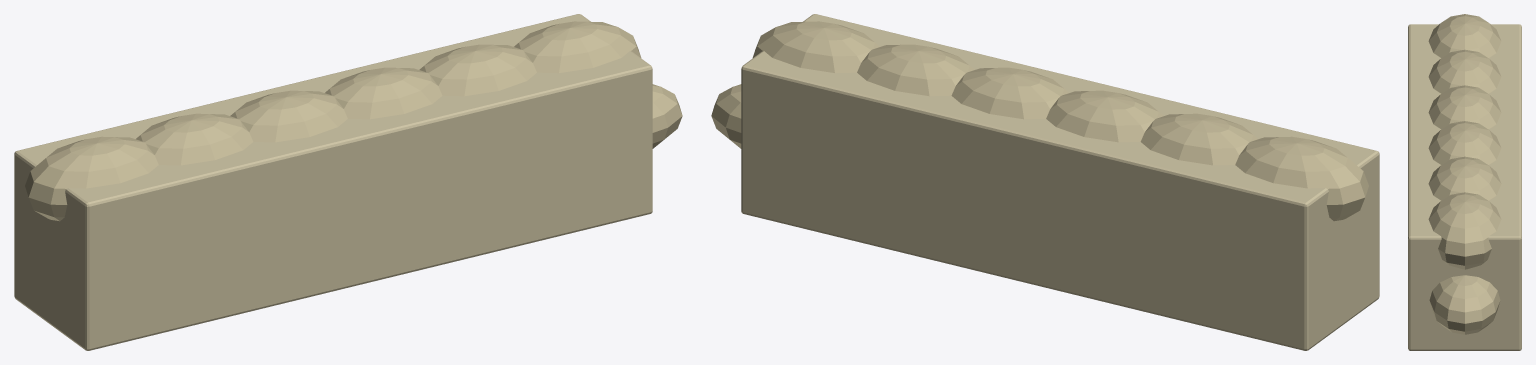
File: sandbag-wall.glb
3 renders of one model, left to right at view 1: azimuth 30°, elevation 25°; view 2: azimuth 150°, elevation 25°; view 3: azimuth 270°, elevation 25°, orthographic. The views are drawn at different scales.
Visible parts, largest first — view 1: sandbag_wall; view 2: sandbag_wall; view 3: sandbag_wall.
Boxes of the visible parts, box(x1,y1,x2,y2) form: sandbag_wall: box(14, 14, 682, 350); sandbag_wall: box(711, 14, 1379, 350); sandbag_wall: box(1408, 14, 1521, 350).
Bounding box in the file's own units: 4.59 × 1.15 × 0.9.
